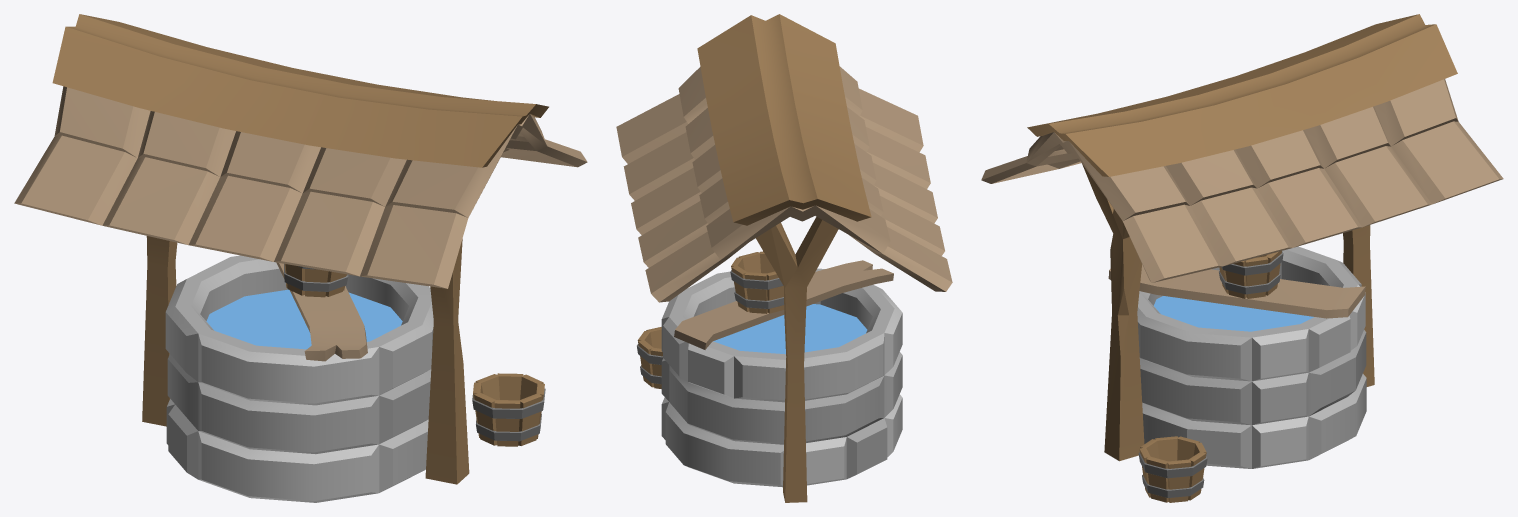
The model's file is well.fbx.
3 renders of one model, left to right at view 1: azimuth 30°, elevation 25°; view 2: azimuth 150°, elevation 25°; view 3: azimuth 270°, elevation 25°, orthographic. The views are drawn at different scales.
Visible parts, largest first — view 1: Well; view 2: Well; view 3: Well.
Part boxes in pixels (<box>): Well: <box>14,14,587,502</box>; Well: <box>616,14,952,502</box>; Well: <box>981,14,1503,502</box>.
Bounding box in the file's own units: 239 × 185 × 255.
